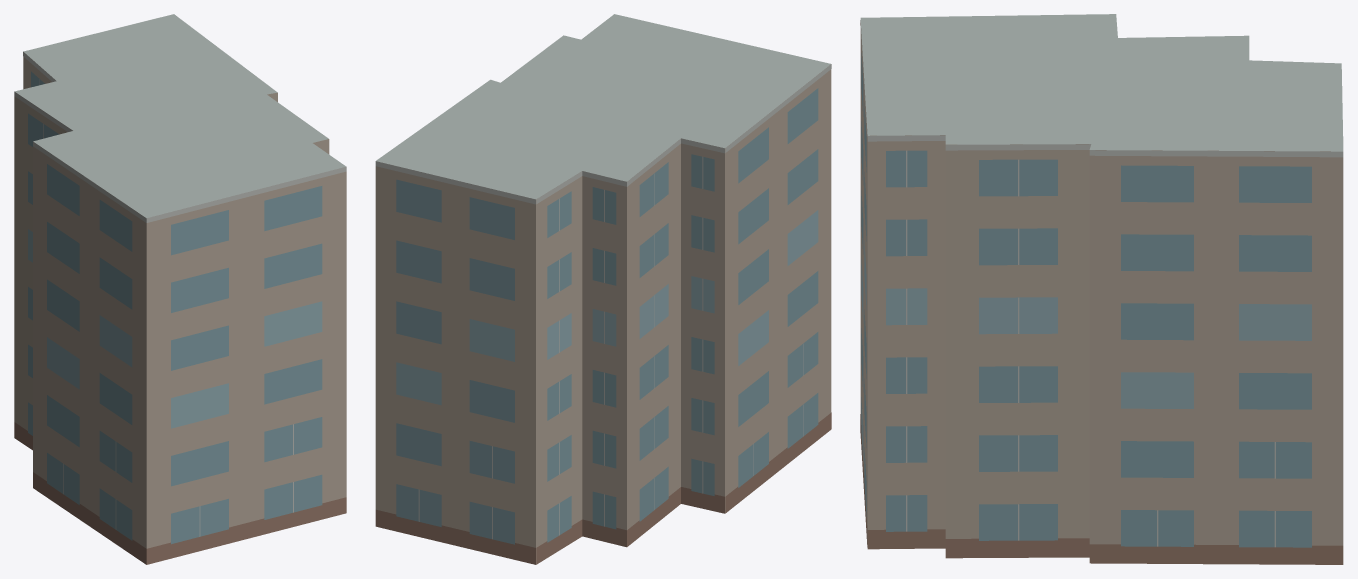
Rendered from survey-upis-32588319.glb.
3 views of the same model, side by side, from view 1: azimuth 30°, elevation 25°; view 2: azimuth 150°, elevation 25°; view 3: azimuth 270°, elevation 25° (orthographic). The views are drawn at different scales.
Parts seen in each view (by area): view 1: survey-upis-32588319.tmp; view 2: survey-upis-32588319.tmp; view 3: survey-upis-32588319.tmp.
Part boxes in pixels (bbox=[...]): survey-upis-32588319.tmp: bbox=[14, 14, 346, 564]; survey-upis-32588319.tmp: bbox=[375, 14, 831, 564]; survey-upis-32588319.tmp: bbox=[860, 14, 1343, 564].
Size of the model in its own units: 12.5 by 17.5 by 18.54.
